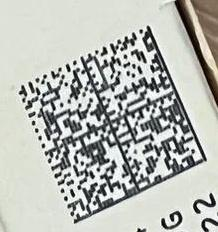datamatrix: (19, 26, 208, 225)
